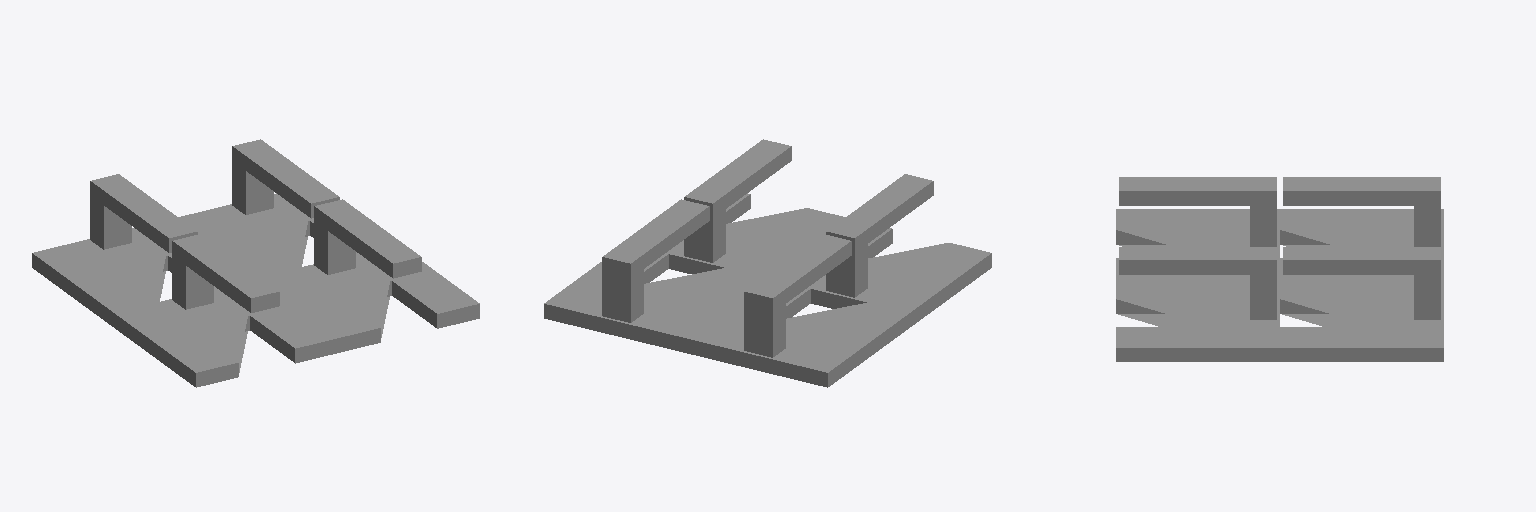
Rendered from hanger_array.obj.
The picture shows the model from 3 angles: view 1: azimuth 30°, elevation 25°; view 2: azimuth 150°, elevation 25°; view 3: azimuth 270°, elevation 25°; orthographic projection.
Visible parts, largest first — view 1: Cube.001_Cube.004; view 2: Cube.001_Cube.004; view 3: Cube.001_Cube.004.
Boxes of the visible parts, x1,y1,x2,y2 form: Cube.001_Cube.004: [32, 139, 479, 387]; Cube.001_Cube.004: [544, 139, 991, 387]; Cube.001_Cube.004: [1116, 177, 1443, 361].
Bounding box in the file's own units: 20 × 5 × 20.